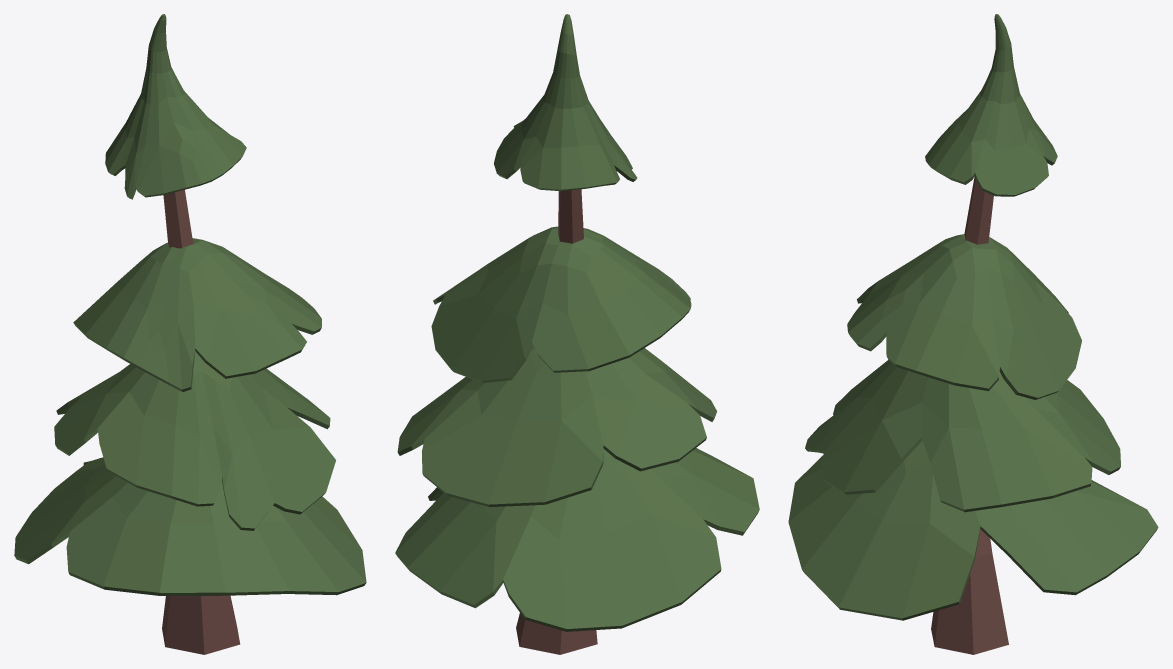
Rendered from pinetree_2.glb.
3 renders of one model, left to right at view 1: azimuth 30°, elevation 25°; view 2: azimuth 150°, elevation 25°; view 3: azimuth 270°, elevation 25°, orthographic. The views are drawn at different scales.
Visible parts, largest first — view 1: PineTree_2; view 2: PineTree_2; view 3: PineTree_2.
Part boxes in pixels (x1=…): PineTree_2: x1=14, y1=14, x2=366, y2=654; PineTree_2: x1=395, y1=14, x2=759, y2=654; PineTree_2: x1=788, y1=14, x2=1158, y2=654.
Size of the model in its own units: 4.31 by 8.56 by 4.7.
